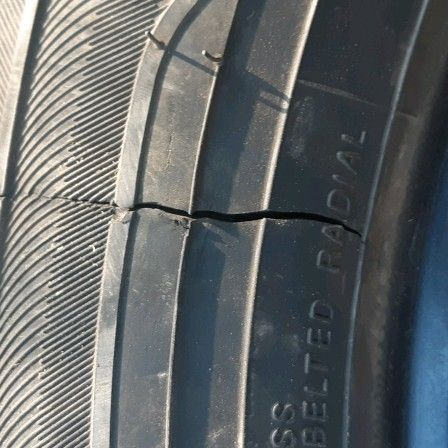cut: (131, 202, 363, 239)
